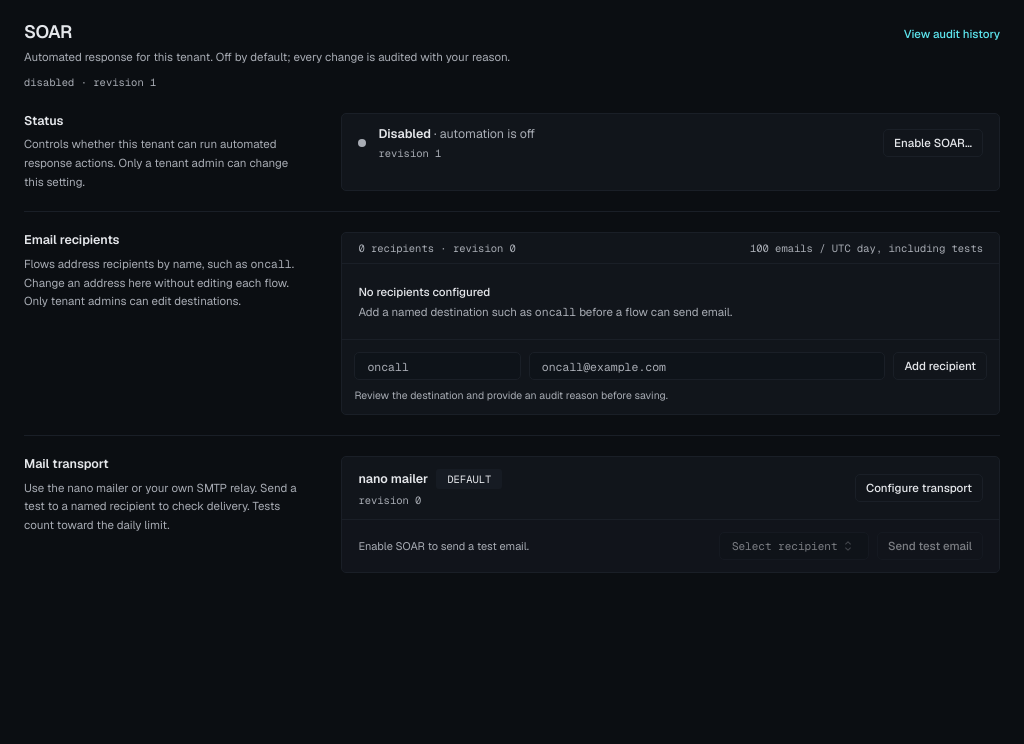
Test: a 409 that flips status cannot reverse the intended action on retry
Click the button "Enable SOAR…": {"x": 933, "y": 143} [883,129,983,157]
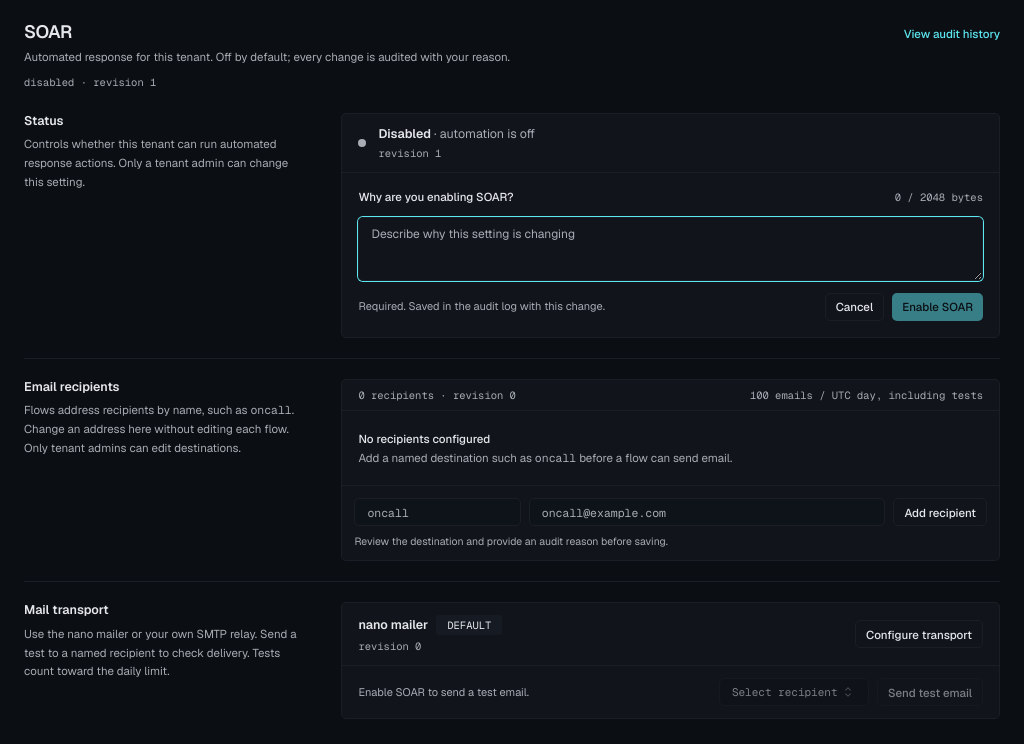
In the text box named "Reason": {"x": 671, "y": 249} [358,217,983,281], type "Enable"
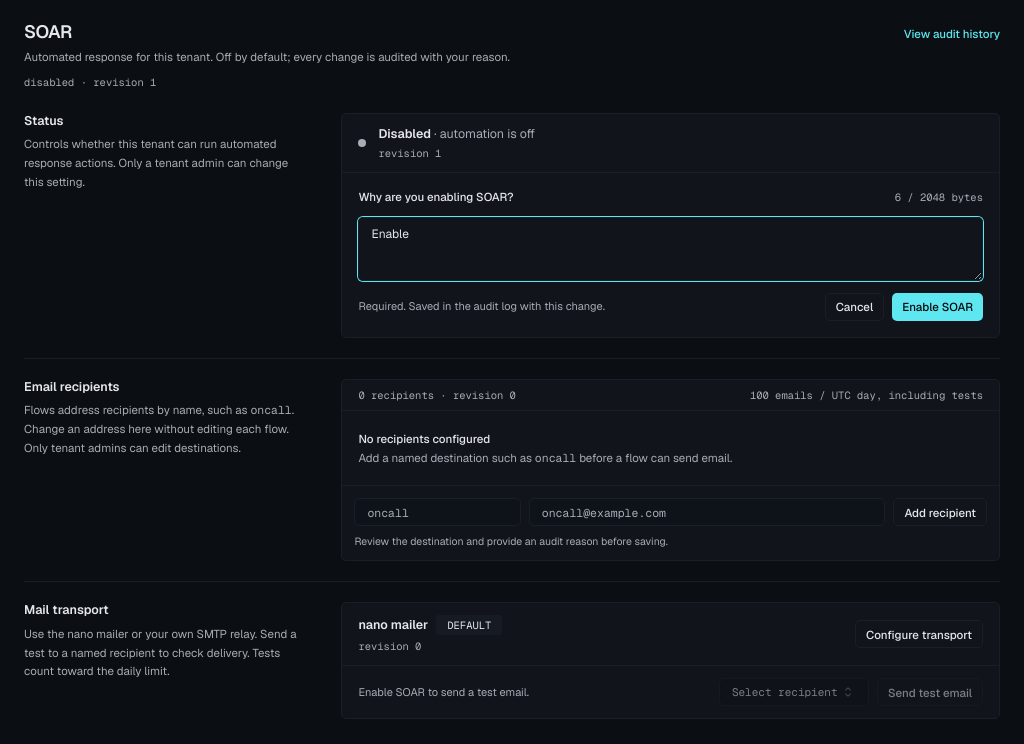
Click the button "Enable SOAR": {"x": 938, "y": 307} [892,293,983,321]
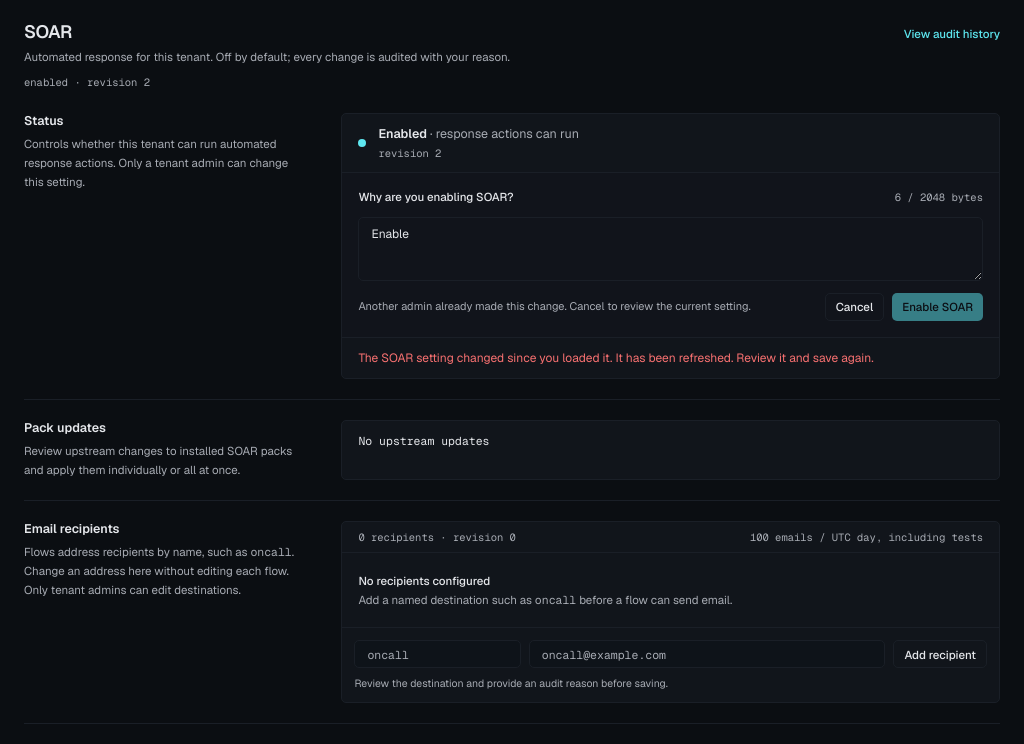
Expected: the text "enabled · revision 2" is shown, [24,75,150,89]
Expected: the button "Enable SOAR" is disabled, [892,293,983,321]
Expected: the text "Another admin already made this change" is shown, [358,299,751,313]
